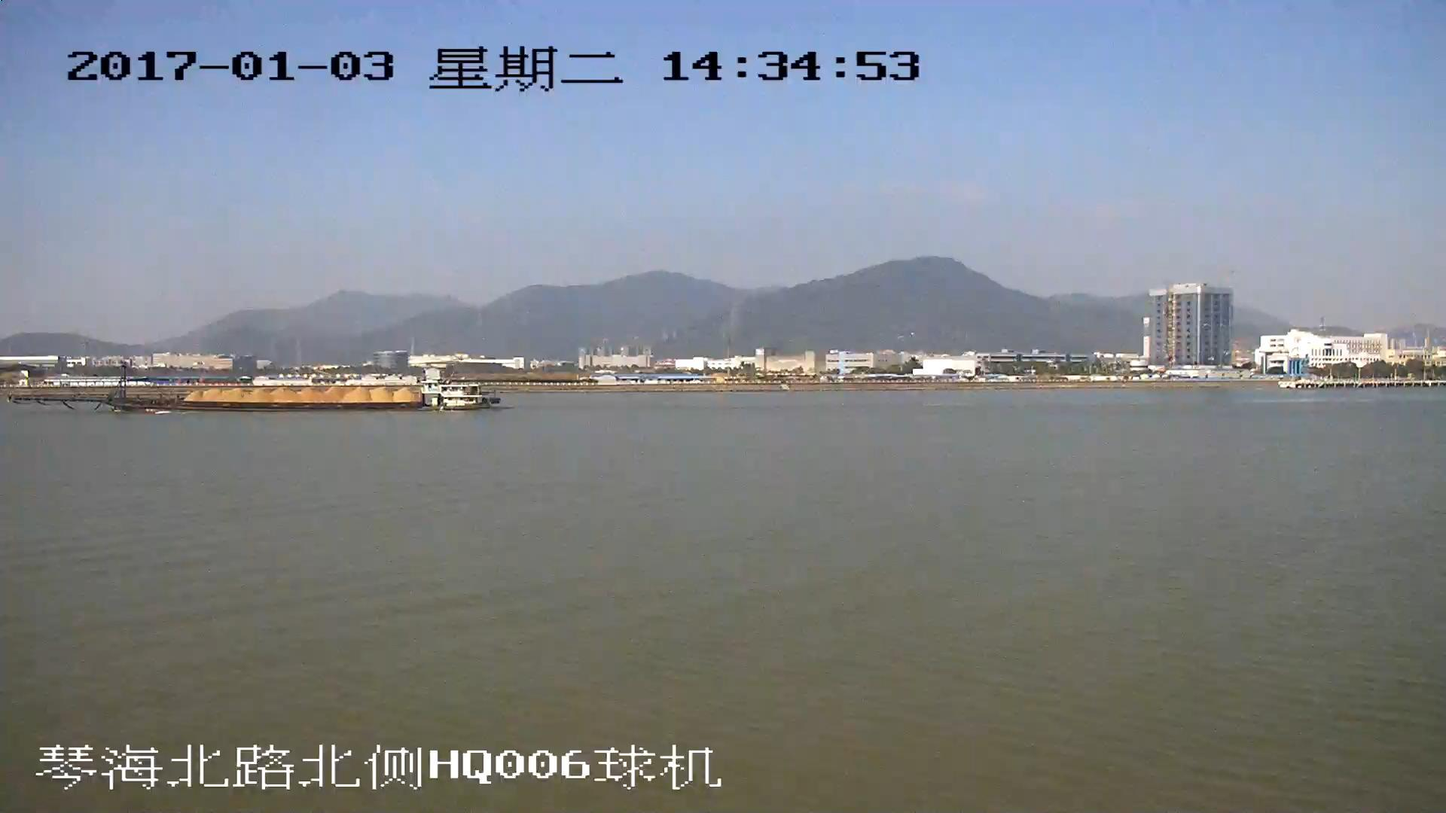ore carrier: (13, 370, 500, 412)
